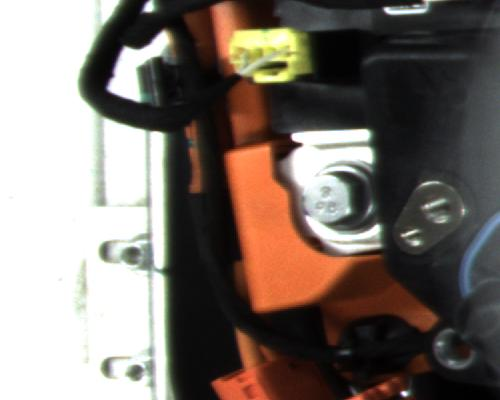nut_b: (298, 153, 368, 236)
